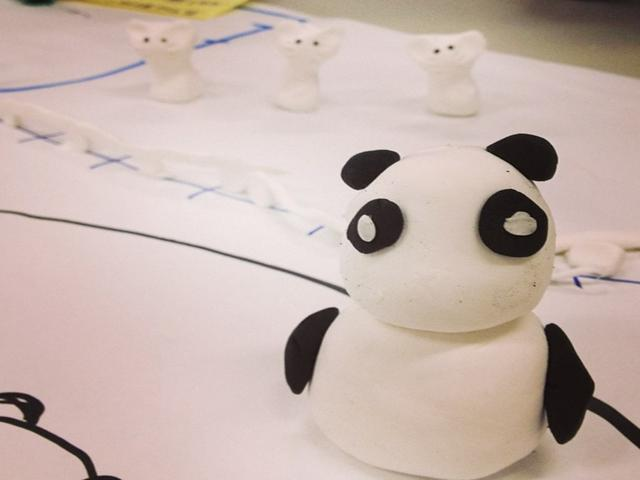panda: (246, 139, 611, 454)
